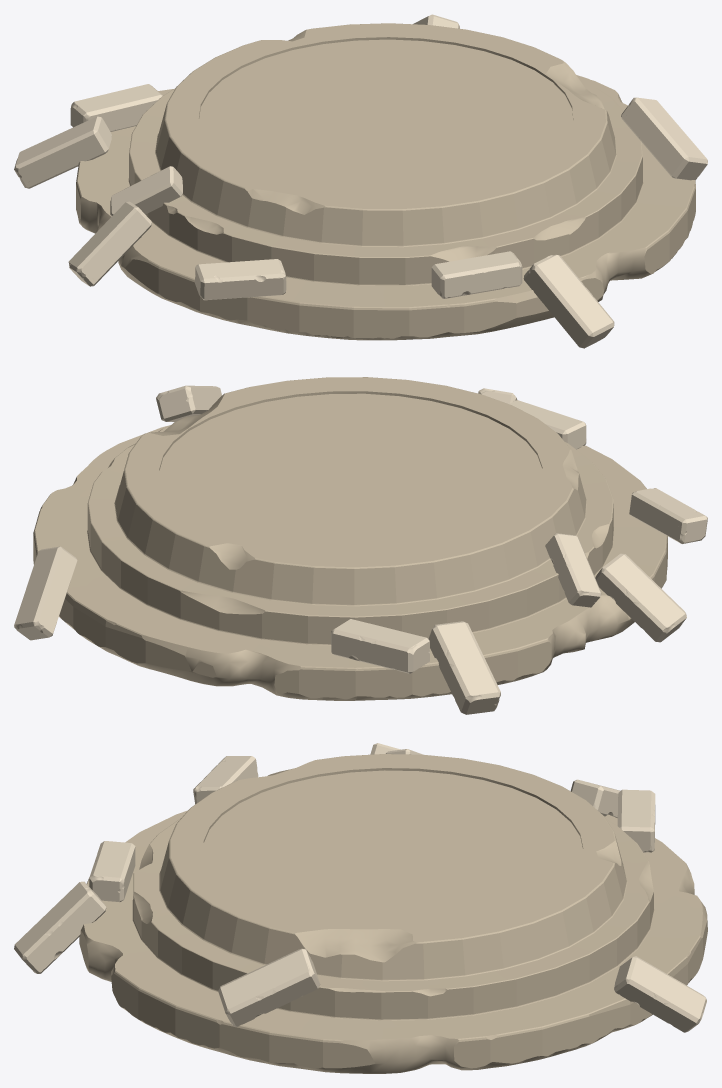
The model's file is Pedestal.fbx.
The picture shows the model from 3 angles, top to bottom: view 1: azimuth 30°, elevation 25°; view 2: azimuth 150°, elevation 25°; view 3: azimuth 270°, elevation 25°; orthographic projection. The views are drawn at different scales.
Visible parts, largest first — view 1: bricks.003_dmg.003; view 2: bricks.003_dmg.003; view 3: bricks.003_dmg.003.
Boxes of the visible parts, <box> form: bricks.003_dmg.003: <box>14,14,707,348</box>; bricks.003_dmg.003: <box>14,377,707,714</box>; bricks.003_dmg.003: <box>14,743,707,1073</box>.
Bounding box in the file's own units: 167 × 28.85 × 168.
